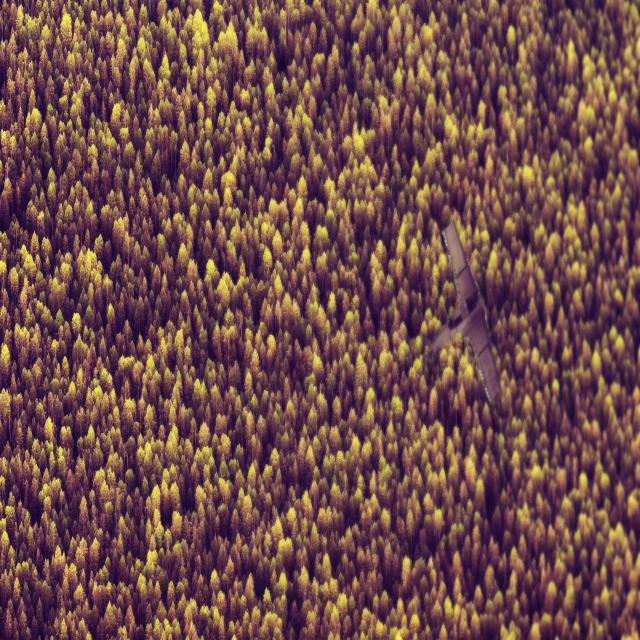airplane: (424, 219, 502, 407)
